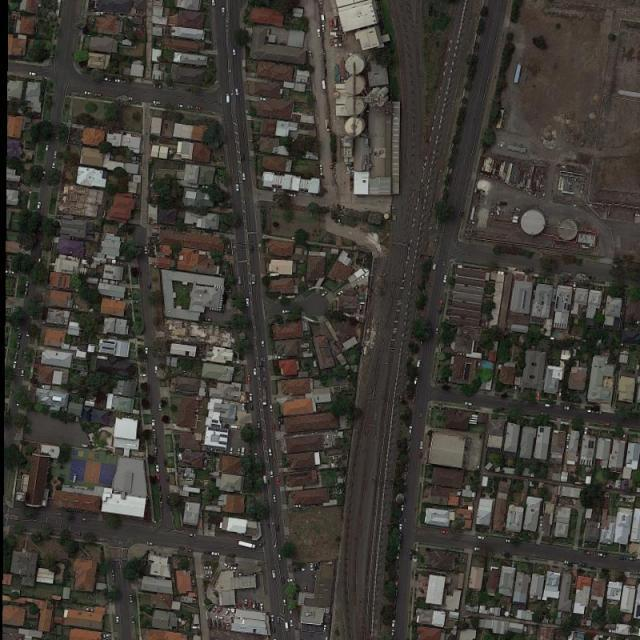vehicle: (238, 541, 257, 550), (262, 386, 268, 406), (320, 290, 329, 298), (442, 274, 449, 284), (223, 608, 231, 616), (284, 622, 290, 632), (230, 424, 240, 430), (320, 14, 326, 24), (217, 606, 224, 614), (211, 606, 218, 614), (336, 290, 344, 297), (214, 614, 225, 619), (251, 274, 256, 285), (262, 475, 268, 484), (272, 570, 277, 580), (287, 578, 297, 583), (232, 46, 237, 56), (153, 85, 163, 90), (53, 150, 58, 160), (597, 553, 607, 558), (223, 562, 230, 569), (208, 605, 214, 613), (36, 202, 42, 210), (24, 281, 30, 289), (416, 360, 422, 368), (250, 601, 255, 610), (209, 618, 214, 627), (270, 614, 275, 623), (323, 624, 328, 633), (308, 51, 313, 60), (28, 72, 37, 77), (84, 90, 93, 95), (240, 402, 245, 411), (45, 144, 50, 153), (420, 441, 425, 450), (260, 602, 264, 613), (226, 93, 230, 104), (320, 165, 324, 176), (247, 600, 251, 610), (102, 634, 112, 638), (146, 541, 154, 546), (211, 552, 221, 556), (115, 616, 119, 626), (213, 620, 218, 628), (232, 360, 242, 364), (253, 368, 258, 376), (158, 402, 162, 412), (186, 105, 196, 109), (235, 87, 240, 95), (144, 245, 148, 255), (413, 378, 418, 386), (560, 406, 570, 410), (572, 282, 577, 290), (435, 326, 440, 334), (563, 561, 573, 565), (20, 369, 25, 377), (82, 517, 90, 522), (203, 566, 212, 570), (112, 574, 116, 583), (130, 594, 134, 603), (242, 446, 246, 455), (114, 78, 123, 82), (168, 86, 177, 90), (13, 361, 17, 370), (145, 346, 149, 355), (242, 172, 246, 181), (246, 298, 250, 307), (282, 310, 291, 314), (465, 402, 474, 406), (440, 530, 449, 534), (477, 536, 486, 540), (585, 551, 594, 555), (584, 428, 589, 435), (244, 598, 247, 609), (310, 562, 314, 570), (86, 608, 94, 612), (270, 470, 274, 478), (273, 494, 277, 502), (208, 522, 212, 530), (278, 554, 282, 562), (218, 622, 222, 630), (222, 622, 226, 630), (283, 598, 287, 606), (151, 419, 155, 427), (317, 30, 321, 38), (94, 93, 102, 97), (261, 339, 265, 347), (14, 352, 18, 360), (272, 424, 276, 432), (270, 403, 274, 411), (154, 101, 162, 105), (235, 184, 239, 192), (288, 194, 296, 198), (566, 434, 570, 442), (392, 620, 396, 628), (391, 630, 395, 638), (156, 474, 160, 482), (204, 571, 214, 574), (277, 476, 280, 486), (456, 353, 466, 356), (304, 585, 308, 592), (153, 437, 157, 444), (154, 447, 158, 454), (290, 619, 294, 626), (140, 374, 147, 378), (18, 333, 22, 340), (260, 98, 267, 102), (52, 162, 56, 169), (603, 422, 610, 426), (205, 576, 214, 579), (222, 8, 225, 17), (322, 25, 325, 34), (275, 356, 284, 359), (410, 426, 413, 435), (399, 524, 402, 533), (230, 567, 238, 570), (152, 430, 156, 436), (156, 465, 159, 473), (294, 506, 302, 509), (132, 616, 135, 624), (277, 615, 280, 623), (155, 366, 158, 374), (250, 394, 253, 402), (17, 342, 20, 350), (231, 446, 234, 454), (401, 505, 404, 513), (188, 534, 195, 537), (195, 107, 202, 110), (248, 375, 251, 382), (258, 423, 261, 430), (211, 1, 215, 6), (269, 447, 271, 456), (628, 558, 637, 560), (238, 447, 240, 455), (242, 154, 244, 162), (132, 638, 135, 640), (274, 638, 277, 640), (638, 571, 640, 574)
